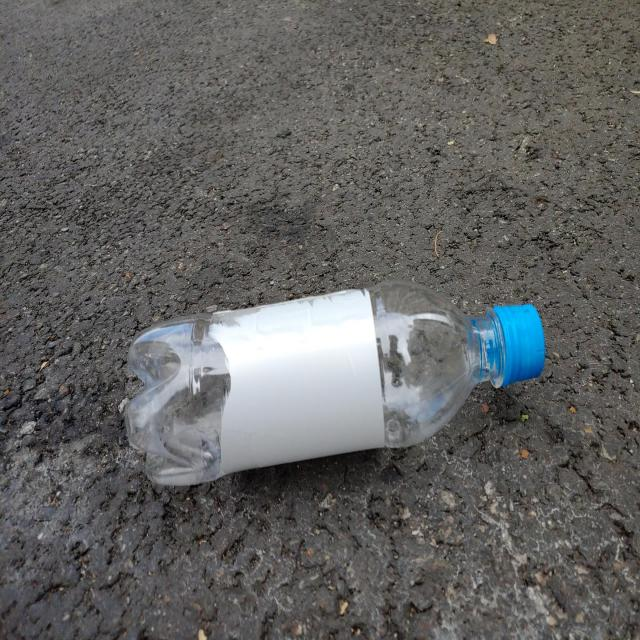plastic: (125, 282, 545, 486)
